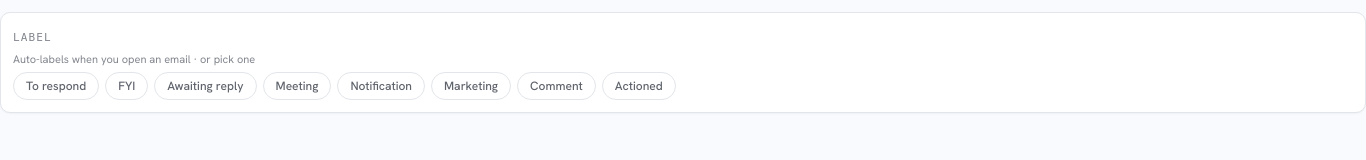
LabelBar (free Office.js categories) › manual override applies an Outlook category — no Graph, no key needed
What coordinates should you click on to do the following:
click the button "To respond"
I would click on:
 (56, 86)
Its box is x1=13 y1=72 x2=99 y2=100.
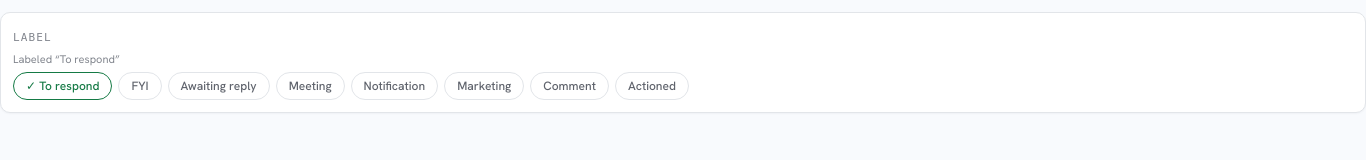
Expected: the text "Labeled “To respond”" is shown, x1=13 y1=52 x2=120 y2=66
